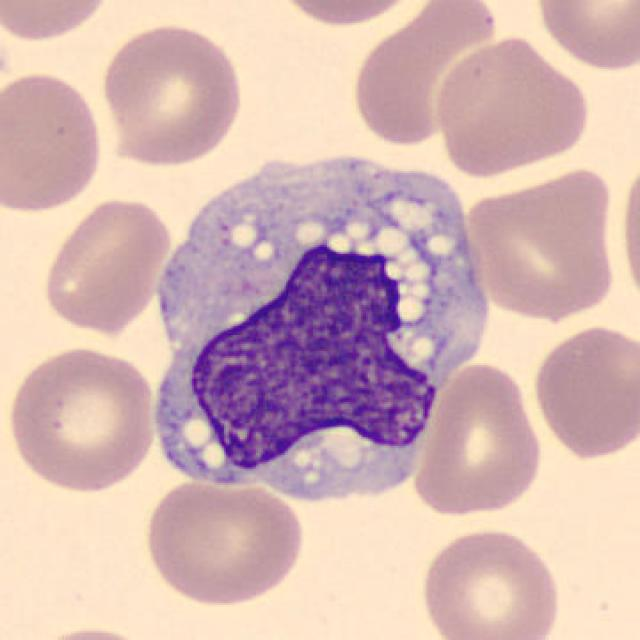Monocyte: (133, 131, 491, 520)
RBC: (462, 162, 622, 324), (4, 342, 160, 495), (430, 34, 594, 178), (347, 0, 505, 148), (96, 18, 247, 169), (138, 474, 308, 608), (409, 358, 546, 520), (38, 192, 174, 337), (414, 523, 565, 640), (0, 67, 107, 217), (528, 321, 638, 462), (528, 0, 638, 74), (0, 0, 119, 46), (263, 0, 430, 30), (615, 142, 640, 316), (22, 622, 164, 640)
